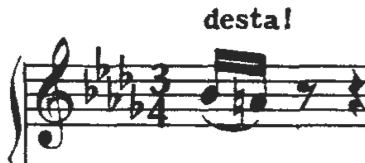flat: (91, 41, 114, 85), (78, 63, 100, 108), (103, 73, 124, 117), (127, 79, 149, 121), (118, 47, 133, 94)
treble_clef: (30, 34, 78, 153)
